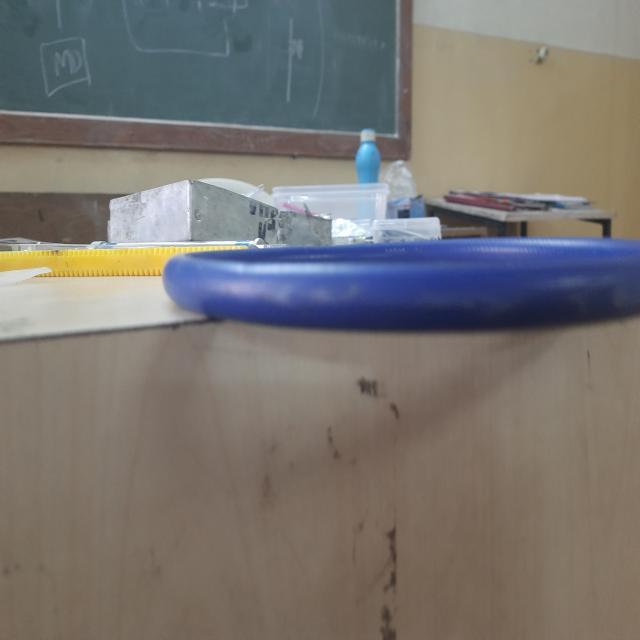daire: (161, 241, 640, 338)
